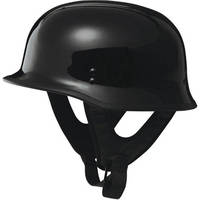with_helmet: (2, 1, 200, 121)
